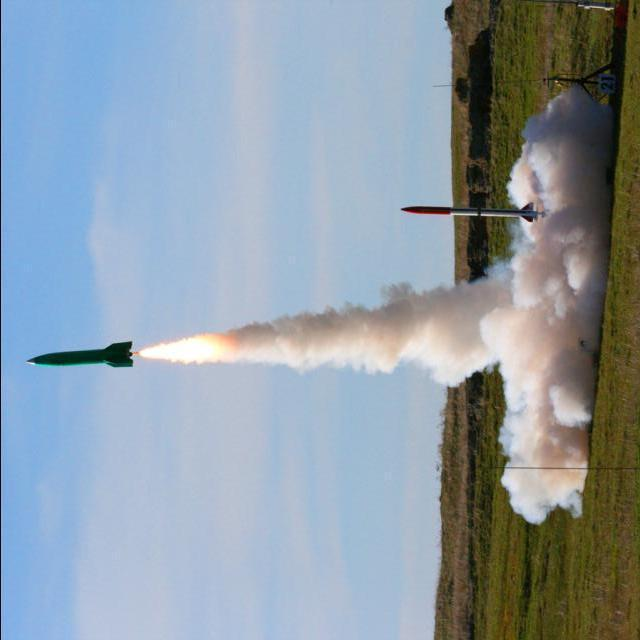missile: (26, 329, 138, 377), (392, 199, 554, 229)
